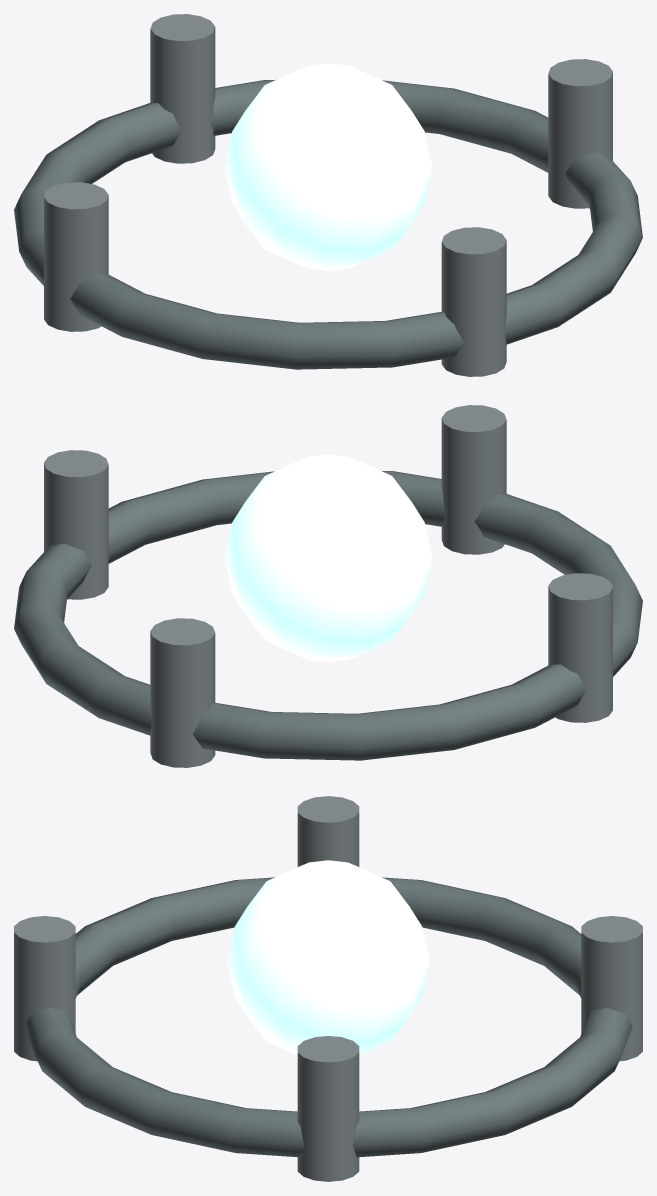
Rendered from guardian_aegis_pulse_static.glb.
The picture shows the model from 3 angles, top to bottom: view 1: azimuth 30°, elevation 25°; view 2: azimuth 150°, elevation 25°; view 3: azimuth 270°, elevation 25°; orthographic projection. The views are drawn at different scales.
Visible parts, largest first — view 1: guardian_aegis_pulse; view 2: guardian_aegis_pulse; view 3: guardian_aegis_pulse.
Part boxes in pixels (<box>): guardian_aegis_pulse: <box>14,14,642,376</box>; guardian_aegis_pulse: <box>14,405,642,767</box>; guardian_aegis_pulse: <box>14,796,642,1181</box>.
Bounding box in the file's own units: 0.3112 × 0.1 × 0.3104.
